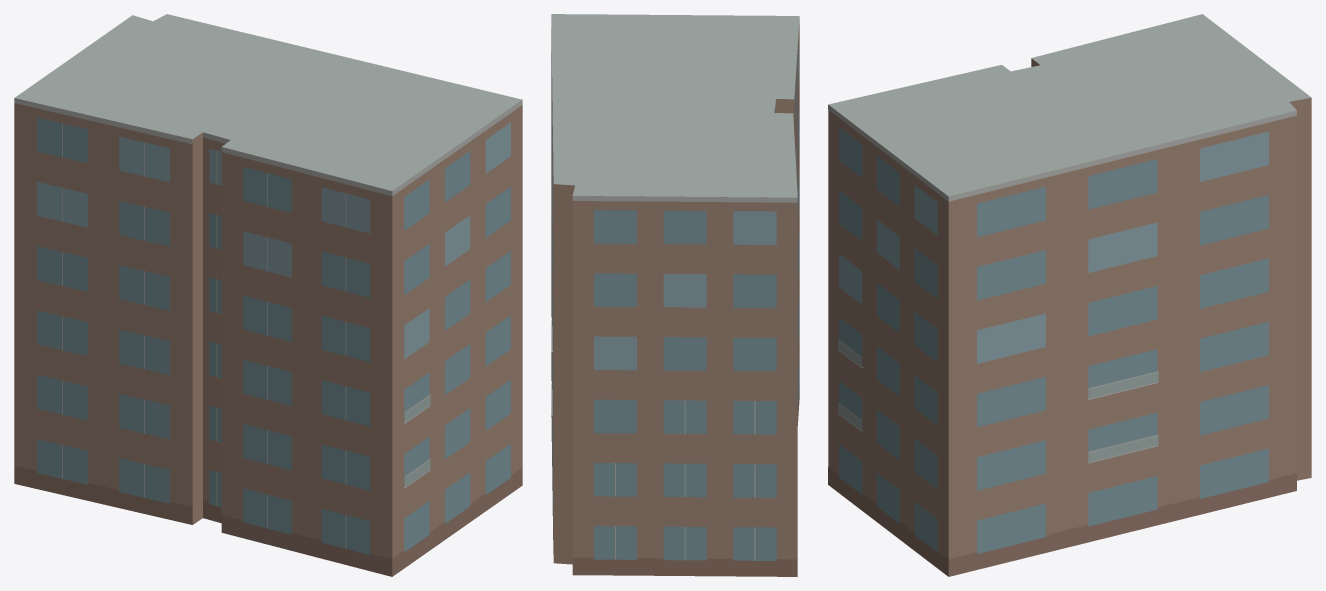
File: survey-upis-32718790.glb
The picture shows the model from 3 angles, left to right: view 1: azimuth 30°, elevation 25°; view 2: azimuth 150°, elevation 25°; view 3: azimuth 270°, elevation 25°; orthographic projection.
Visible parts, largest first — view 1: survey-upis-32718790.tmp; view 2: survey-upis-32718790.tmp; view 3: survey-upis-32718790.tmp.
Part boxes in pixels (x1,y1,x2,y2): survey-upis-32718790.tmp: (14, 14, 522, 576); survey-upis-32718790.tmp: (551, 14, 799, 576); survey-upis-32718790.tmp: (828, 14, 1311, 576).
Size of the model in its own units: 18.85 by 18.3 by 21.1.
